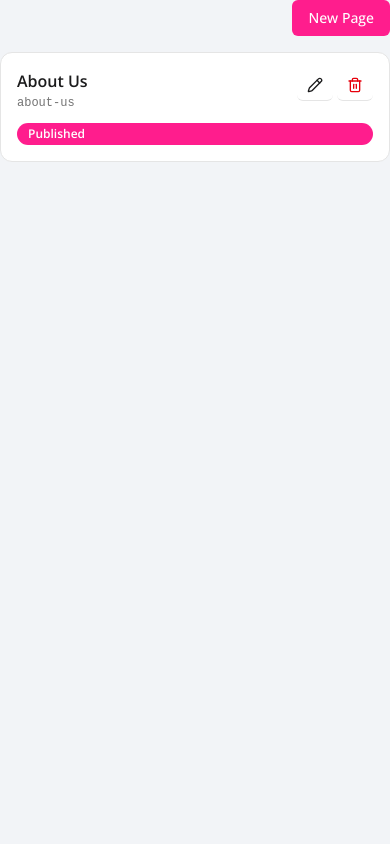
Scenario: PageTableSection › delete icon opens the delete dialog
Click the button named "Delete About Us" at (355, 85), box [337,69,373,101]
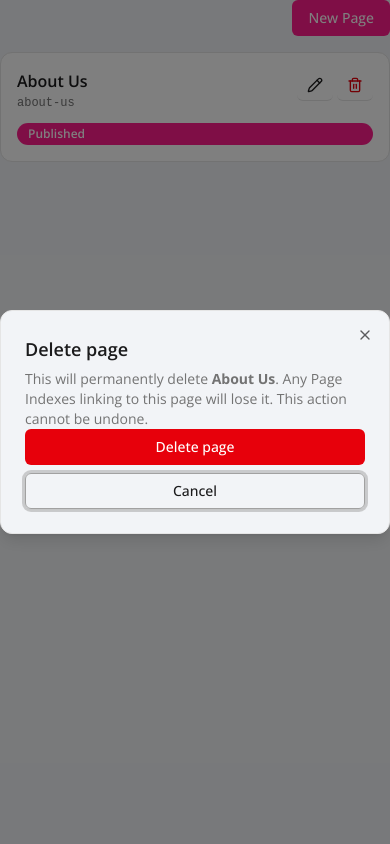
expect the heading "Delete page" is shown: met, box [25,337,128,361]
expect the dialog is shown: met, box [0,310,389,534]
